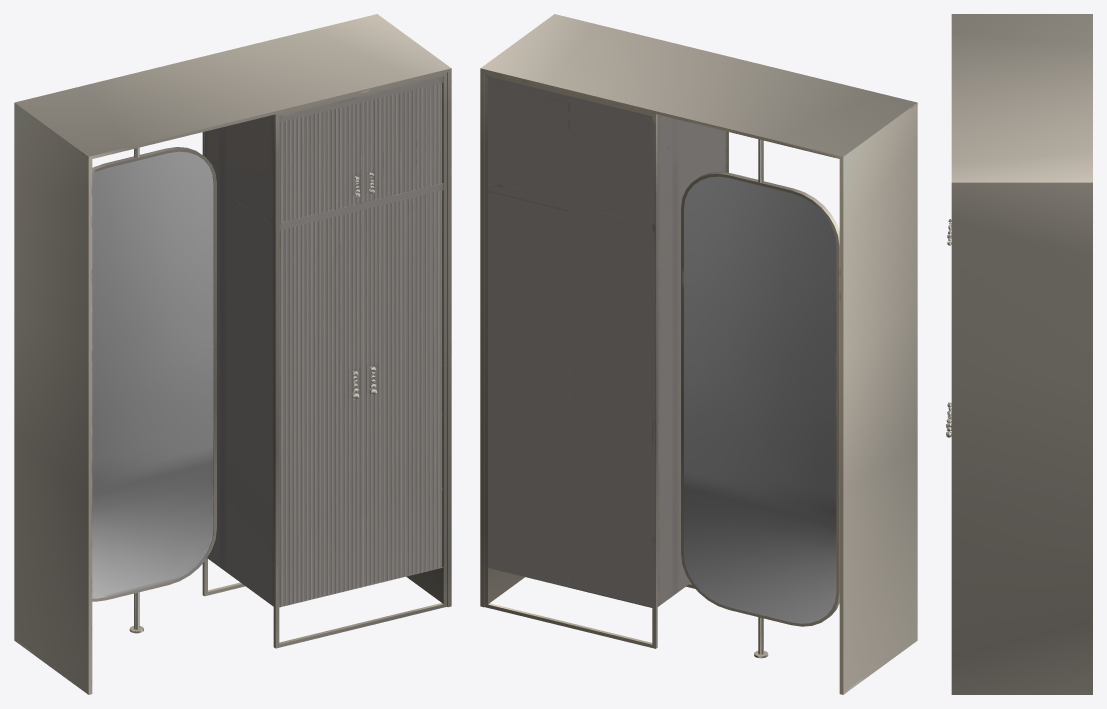
The model's file is raw_model.obj.
The picture shows the model from 3 angles, left to right: view 1: azimuth 30°, elevation 25°; view 2: azimuth 150°, elevation 25°; view 3: azimuth 270°, elevation 25°; orthographic projection. The views are drawn at different scales.
Parts seen in each view (by area): view 1: solid_001, solid_003, solid_004; view 2: solid_001, solid_003, solid_004; view 3: solid_003.
Part boxes in pixels (<box>): solid_001: <box>204,76,443,607</box>; solid_003: <box>14,14,451,694</box>; solid_004: <box>92,151,213,598</box>; solid_001: <box>485,75,726,608</box>; solid_003: <box>480,14,917,694</box>; solid_004: <box>684,176,836,623</box>; solid_003: <box>946,14,1092,694</box>.
Size of the model in its own units: 1.69 by 2.4 by 0.6238.
Materials: 1 (1 with a texture image).
